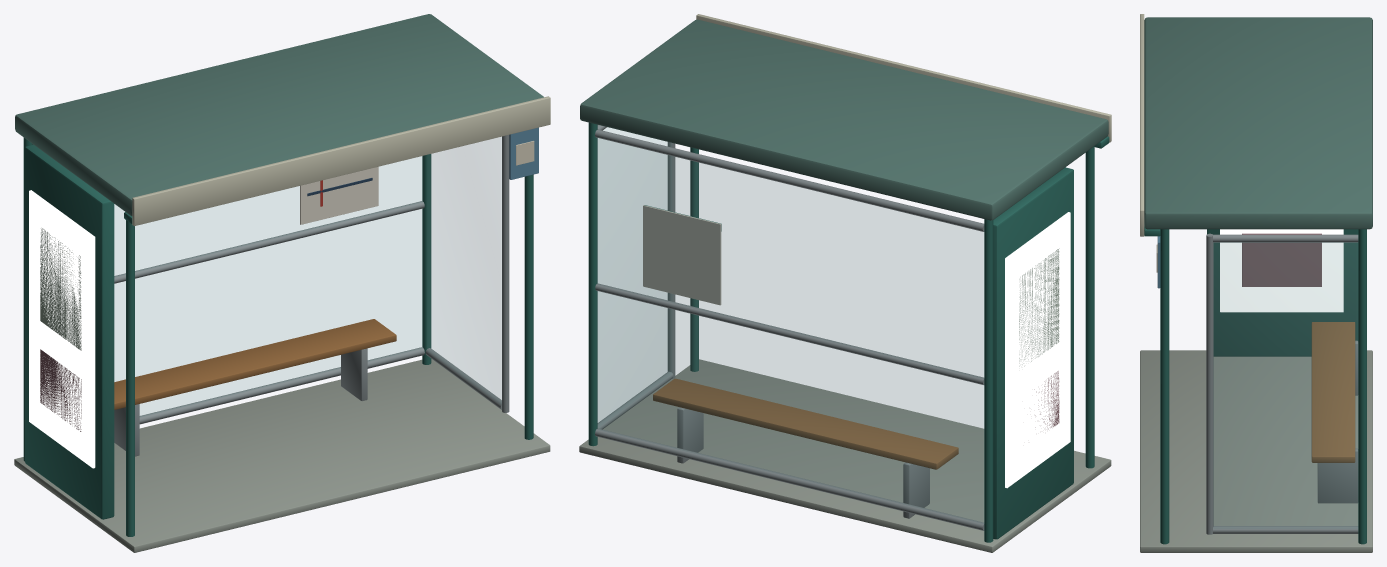
Rendered from bus-stop.glb.
The picture shows the model from 3 angles, left to right: view 1: azimuth 30°, elevation 25°; view 2: azimuth 150°, elevation 25°; view 3: azimuth 270°, elevation 25°; orthographic projection. The views are drawn at different scales.
Parts seen in each view (by area): view 1: bus-stop; view 2: bus-stop; view 3: bus-stop.
Boxes of the visible parts, x1,y1,x2,y2 form: bus-stop: [14, 14, 550, 552]; bus-stop: [579, 14, 1111, 552]; bus-stop: [1140, 14, 1372, 552].
Size of the model in its own units: 3.2 by 2.6 by 1.6.
